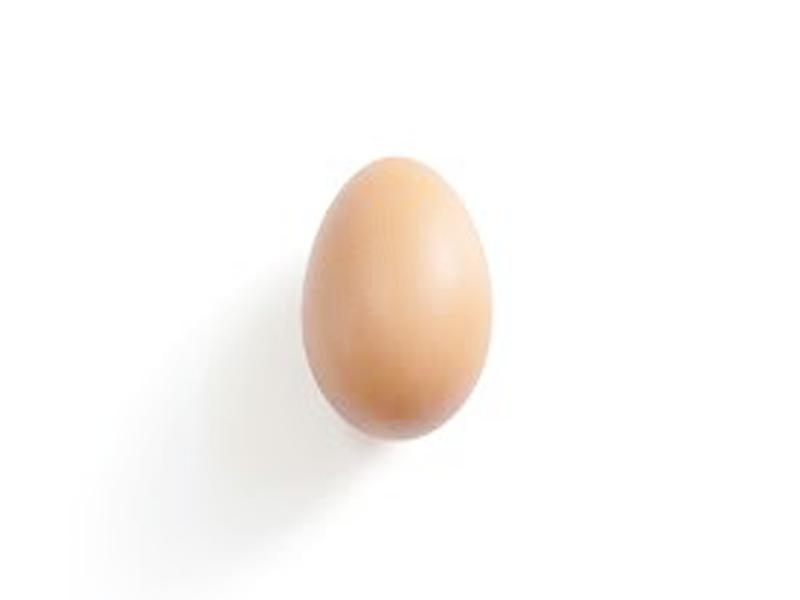Eggs: (303, 154, 489, 439)
